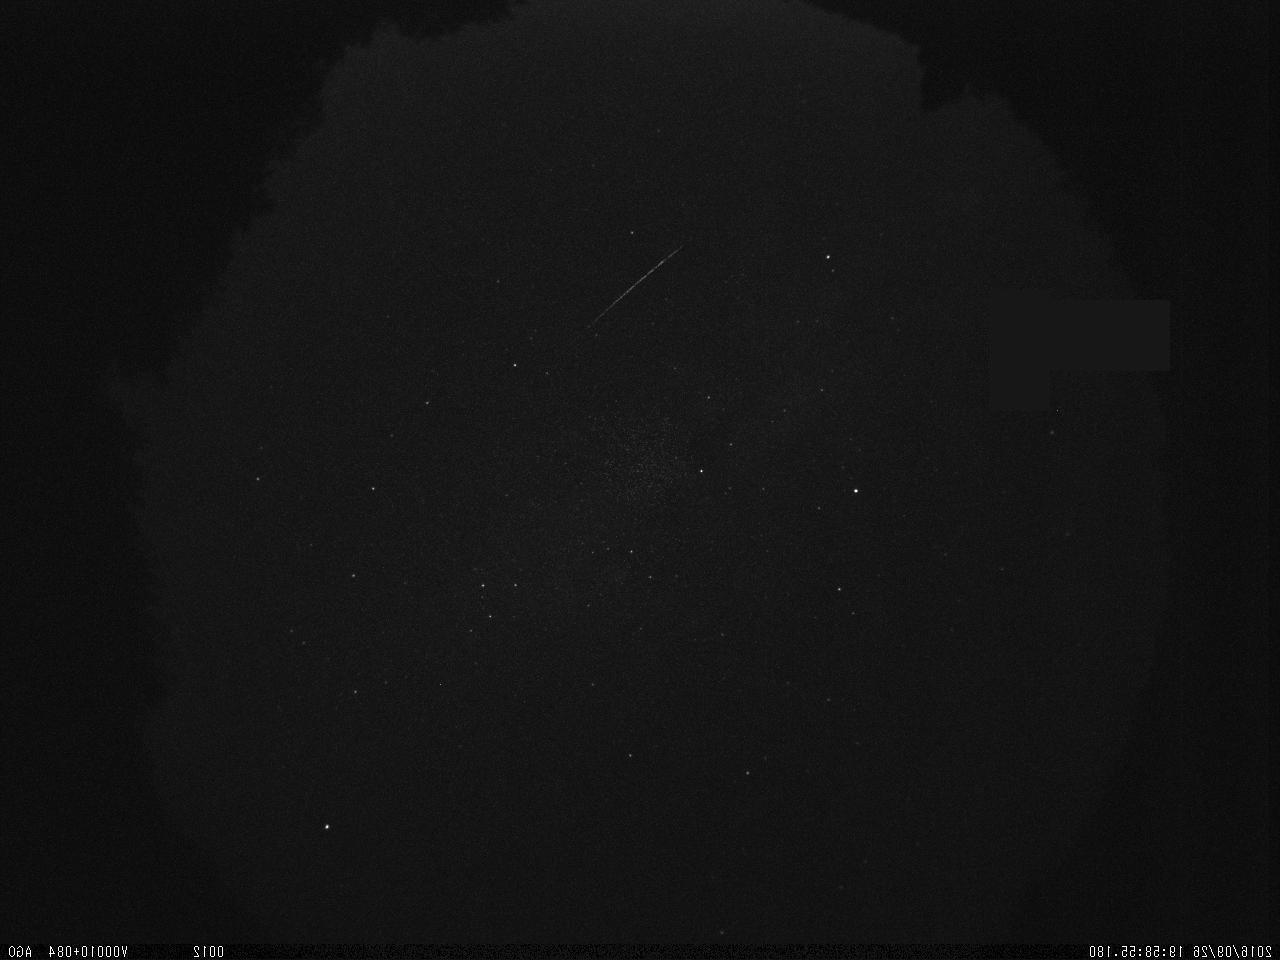meteor: (557, 221, 708, 370)
